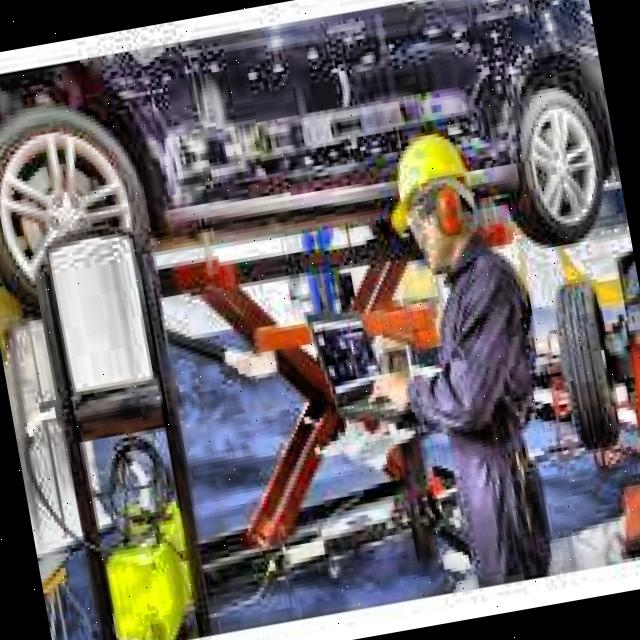helmet: (378, 113, 496, 287)
